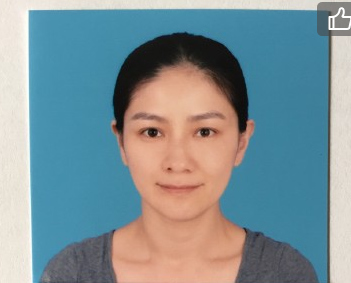unmask: (124, 76, 233, 215)
